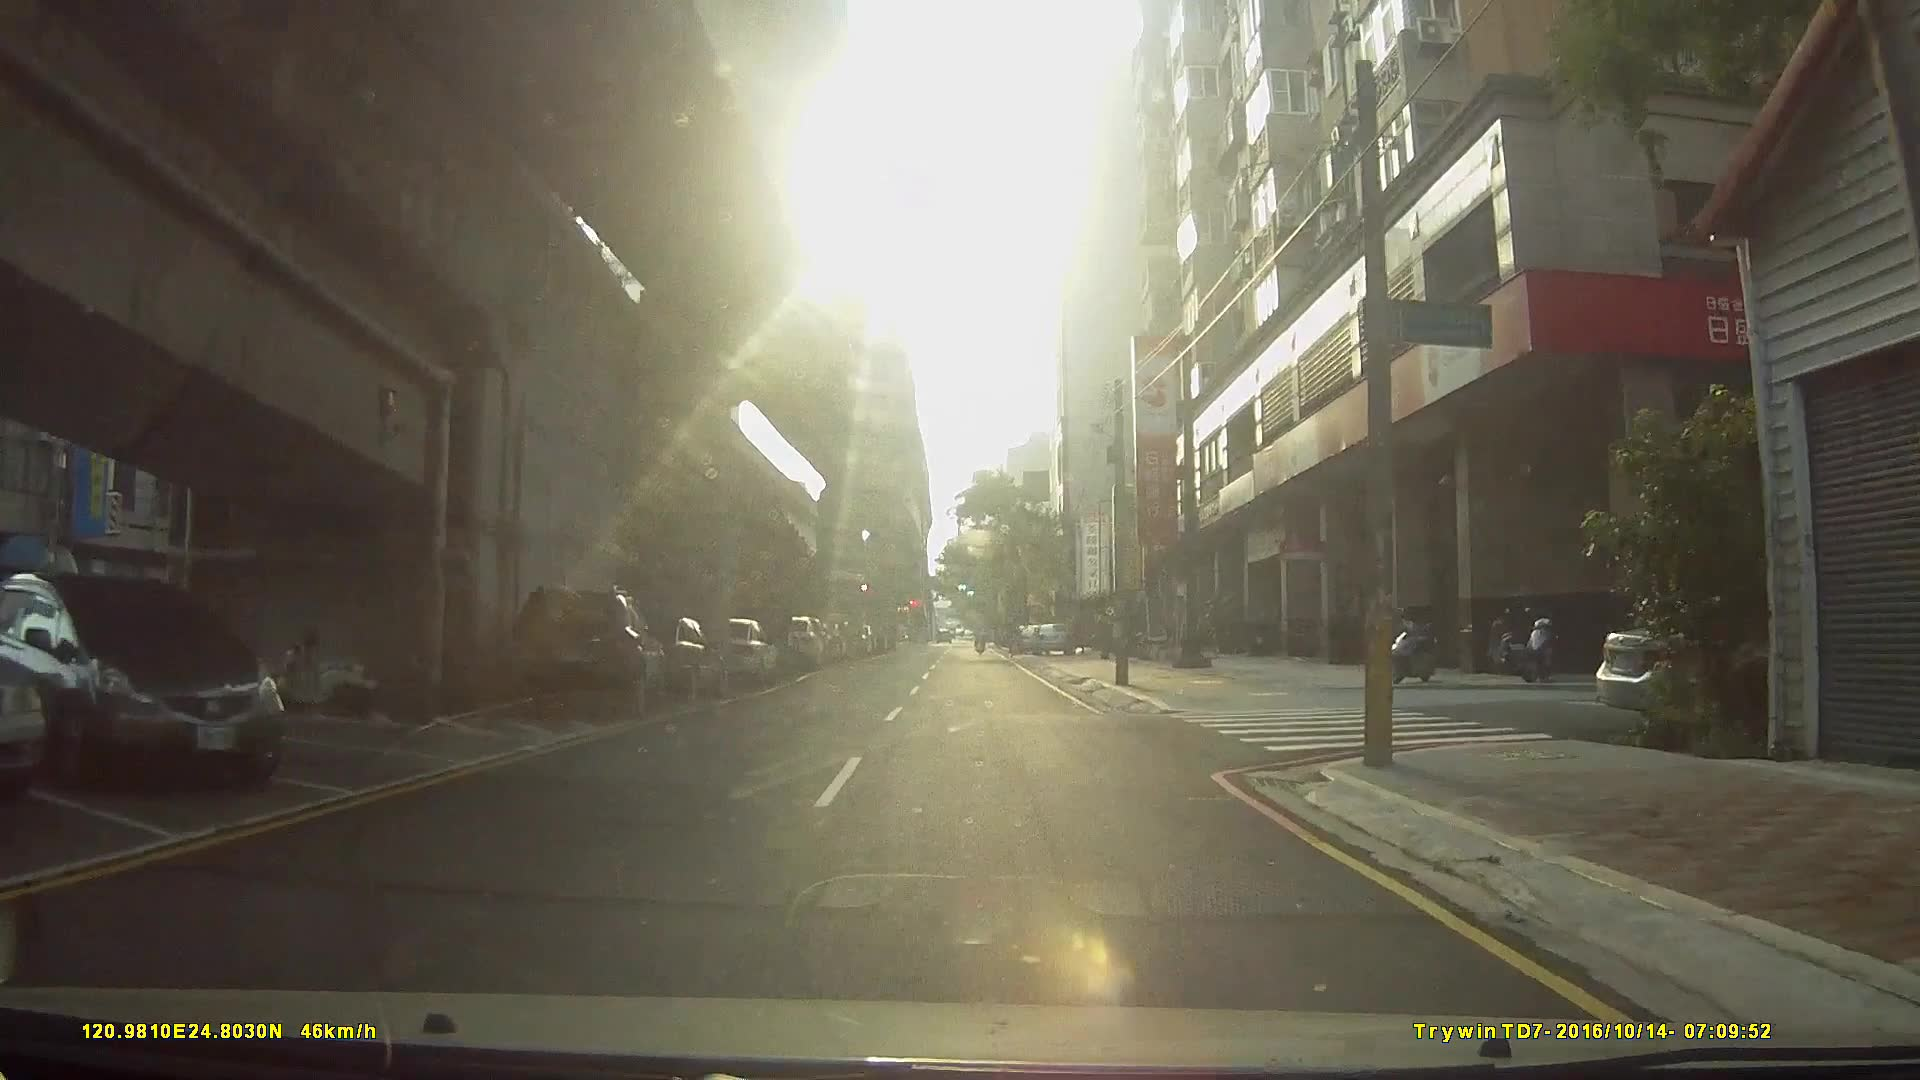vehicle: (0, 575, 286, 789), (501, 584, 666, 717), (597, 612, 729, 700), (659, 620, 794, 670), (696, 617, 778, 691), (1029, 621, 1073, 655)
